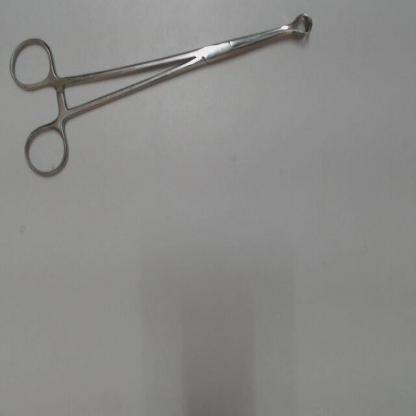8 Babcock Tissue Forceps: (5, 9, 318, 184)
